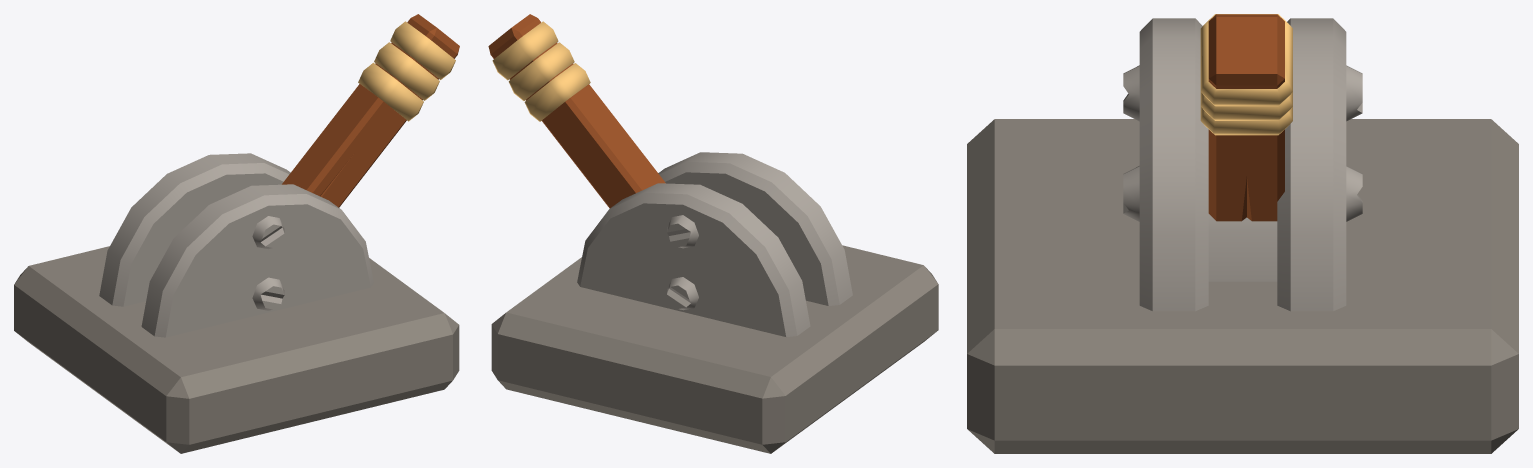
Rendered from m_dec_dung_lever_posC.fbx.
The picture shows the model from 3 angles, left to right: view 1: azimuth 30°, elevation 25°; view 2: azimuth 150°, elevation 25°; view 3: azimuth 270°, elevation 25°; orthographic projection. The views are drawn at different scales.
Parts seen in each view (by area): view 1: m_dec_dung_lever_posC; view 2: m_dec_dung_lever_posC; view 3: m_dec_dung_lever_posC.
Boxes of the visible parts, <box> form: m_dec_dung_lever_posC: <box>14,14,459,453</box>; m_dec_dung_lever_posC: <box>488,14,938,453</box>; m_dec_dung_lever_posC: <box>967,14,1518,453</box>.
Size of the model in its own units: 2.47 by 1.94 by 2.
